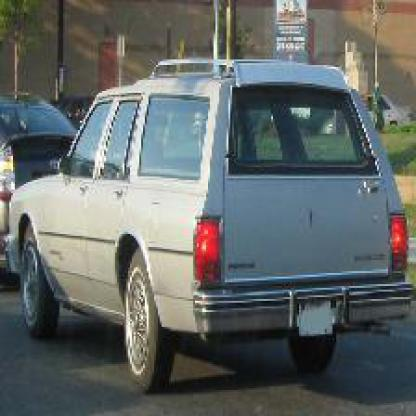not_emergency: (14, 66, 399, 370)
